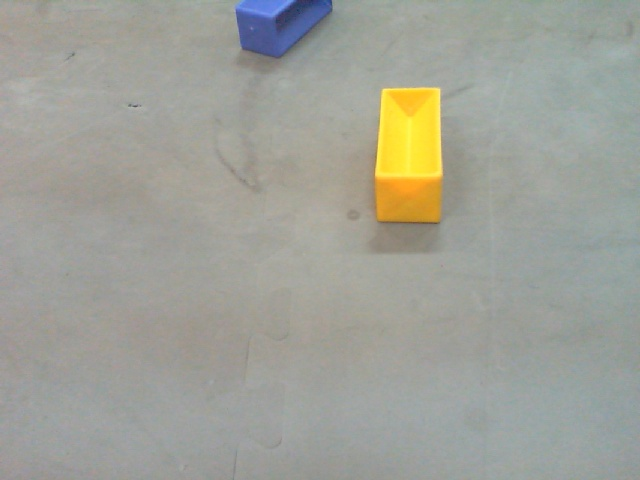BlueSample: (234, 1, 332, 58)
YellowSample: (374, 87, 443, 225)
